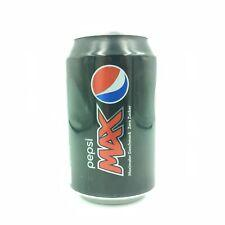metal: (67, 37, 157, 204)
